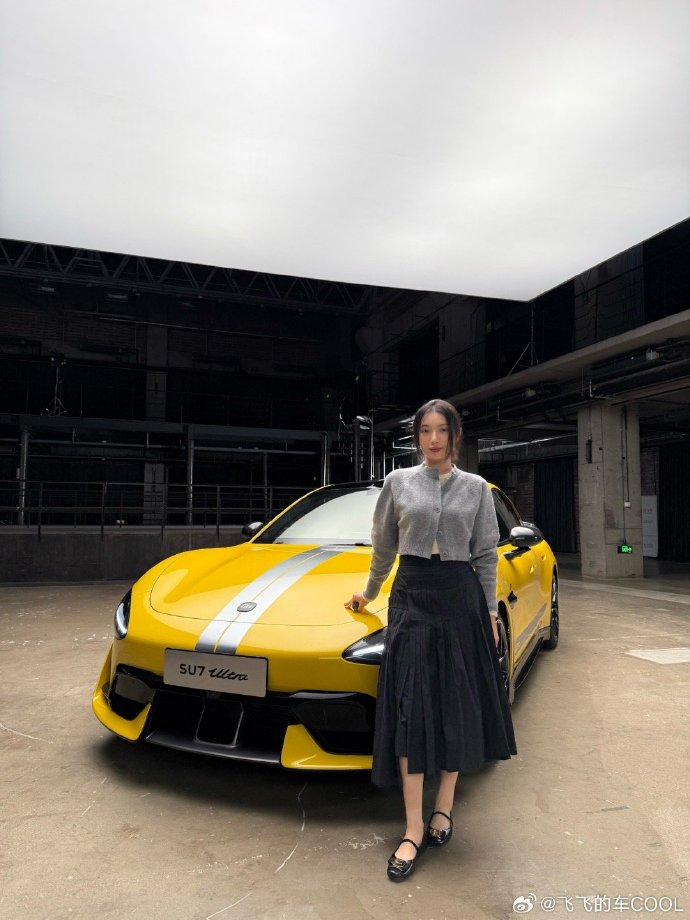su7: (103, 479, 562, 788)
